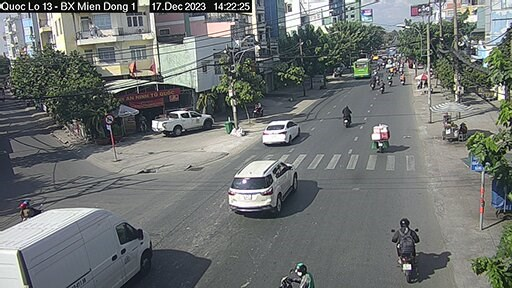bus: (352, 56, 372, 81)
car: (8, 208, 149, 285), (231, 159, 299, 210), (151, 109, 214, 134), (262, 120, 302, 141)
motorbike: (395, 220, 424, 279), (341, 102, 356, 130)
